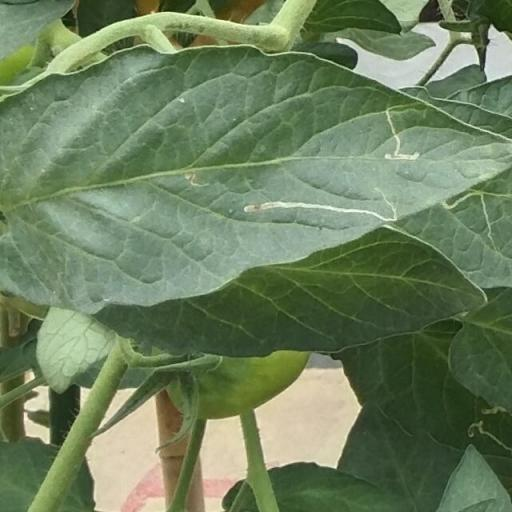Healthy: (96, 225, 489, 358)
Leaf_Miner: (0, 40, 512, 315)
